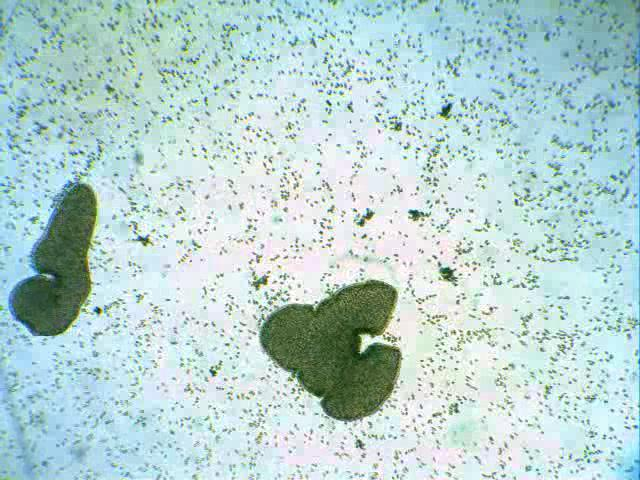Placozoan: (259, 279, 401, 422), (9, 184, 98, 336)
